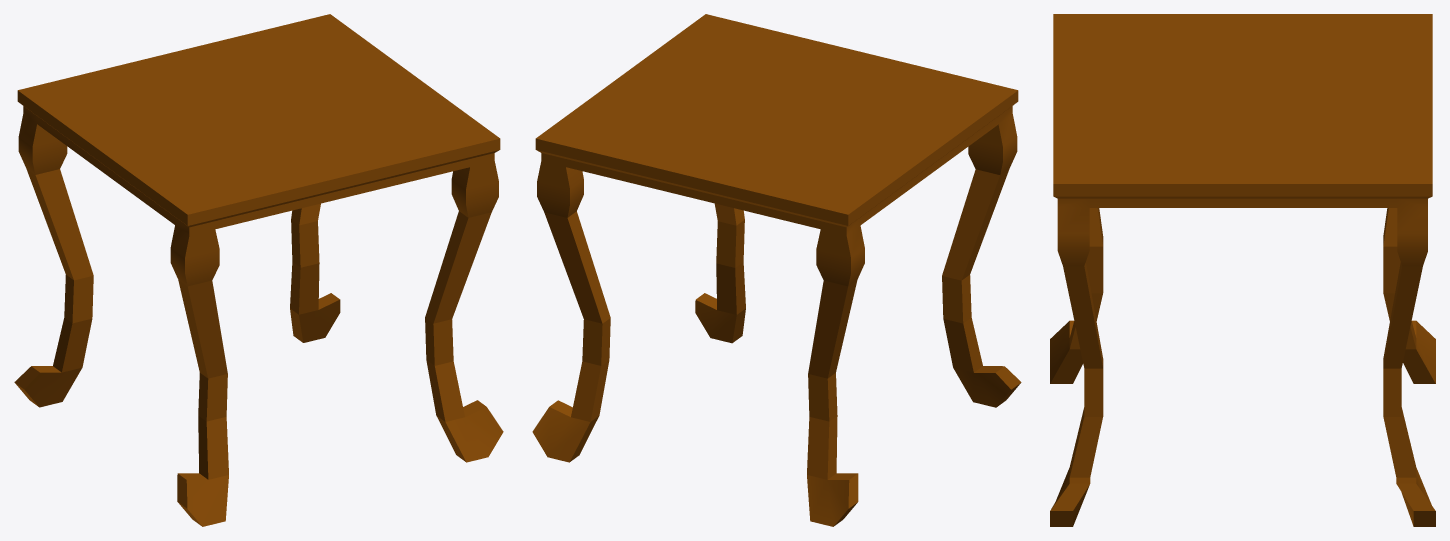
File: FIL_ZenGarden_WoodenTable_01.fbx
The picture shows the model from 3 angles, left to right: view 1: azimuth 30°, elevation 25°; view 2: azimuth 150°, elevation 25°; view 3: azimuth 270°, elevation 25°; orthographic projection. The views are drawn at different scales.
Visible parts, largest first — view 1: pCube4; view 2: pCube4; view 3: pCube4.
Part boxes in pixels (x1=…): pCube4: x1=14, y1=14, x2=503, y2=526; pCube4: x1=532, y1=14, x2=1021, y2=526; pCube4: x1=1050, y1=14, x2=1435, y2=526.
Size of the model in its own units: 9.54 by 9.06 by 9.05.
